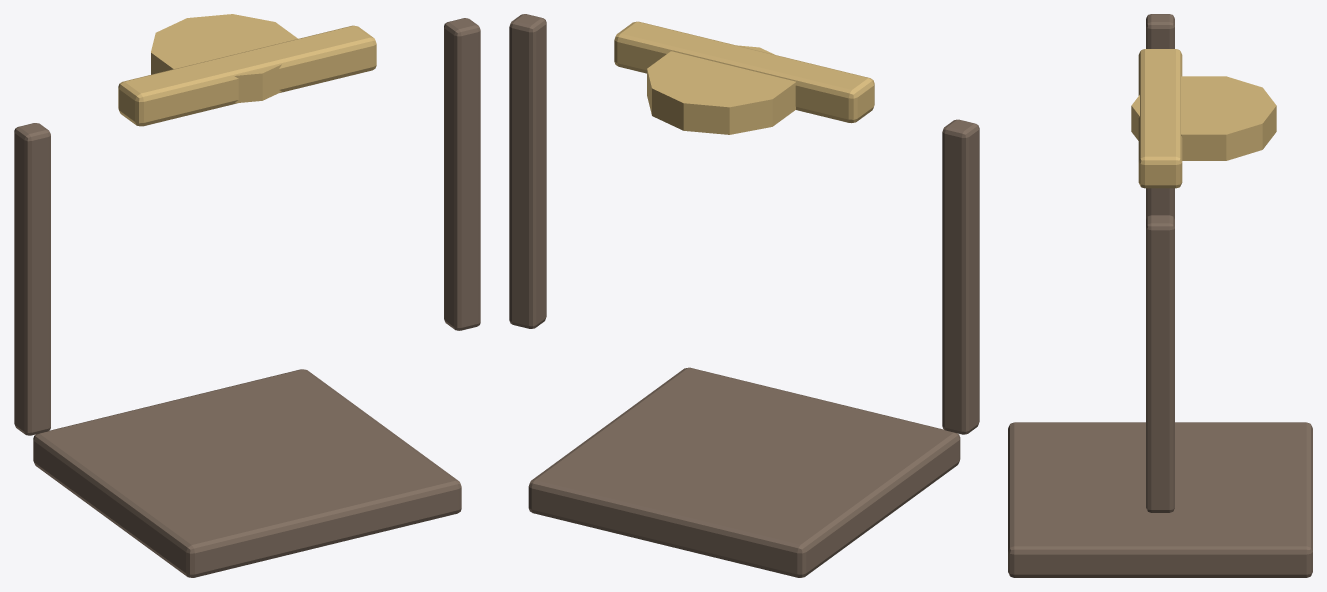
Rendered from landmark_rootroad_lift_wellhouse_v1.glb.
The picture shows the model from 3 angles, left to right: view 1: azimuth 30°, elevation 25°; view 2: azimuth 150°, elevation 25°; view 3: azimuth 270°, elevation 25°; orthographic projection. The views are drawn at different scales.
Visible parts, largest first — view 1: LiftPlatform, Winch, WellhousePost.001, WellhousePost, WinchWheel; view 2: LiftPlatform, WellhousePost, WellhousePost.001, WinchWheel, Winch; view 3: LiftPlatform, WellhousePost.001, WinchWheel, Winch, WellhousePost.
Boxes of the visible parts, left/top/right/bottom form: LiftPlatform: left=33, top=369, right=461, bottom=577; Winch: left=118, top=25, right=376, bottom=126; WellhousePost.001: left=444, top=18, right=480, bottom=330; WellhousePost: left=14, top=123, right=50, bottom=435; WinchWheel: left=151, top=14, right=297, bottom=103; LiftPlatform: left=528, top=367, right=960, bottom=577; WellhousePost: left=942, top=119, right=979, bottom=434; WellhousePost.001: left=509, top=14, right=546, bottom=328; WinchWheel: left=647, top=45, right=795, bottom=134; Winch: left=614, top=21, right=874, bottom=123; LiftPlatform: left=1008, top=422, right=1312, bottom=577; WellhousePost.001: left=1146, top=215, right=1174, bottom=512; WinchWheel: left=1131, top=76, right=1276, bottom=160; Winch: left=1138, top=49, right=1182, bottom=188; WellhousePost: left=1146, top=14, right=1174, bottom=219.
Bounding box in the file's own units: 1.74 × 1.57 × 1.05.
